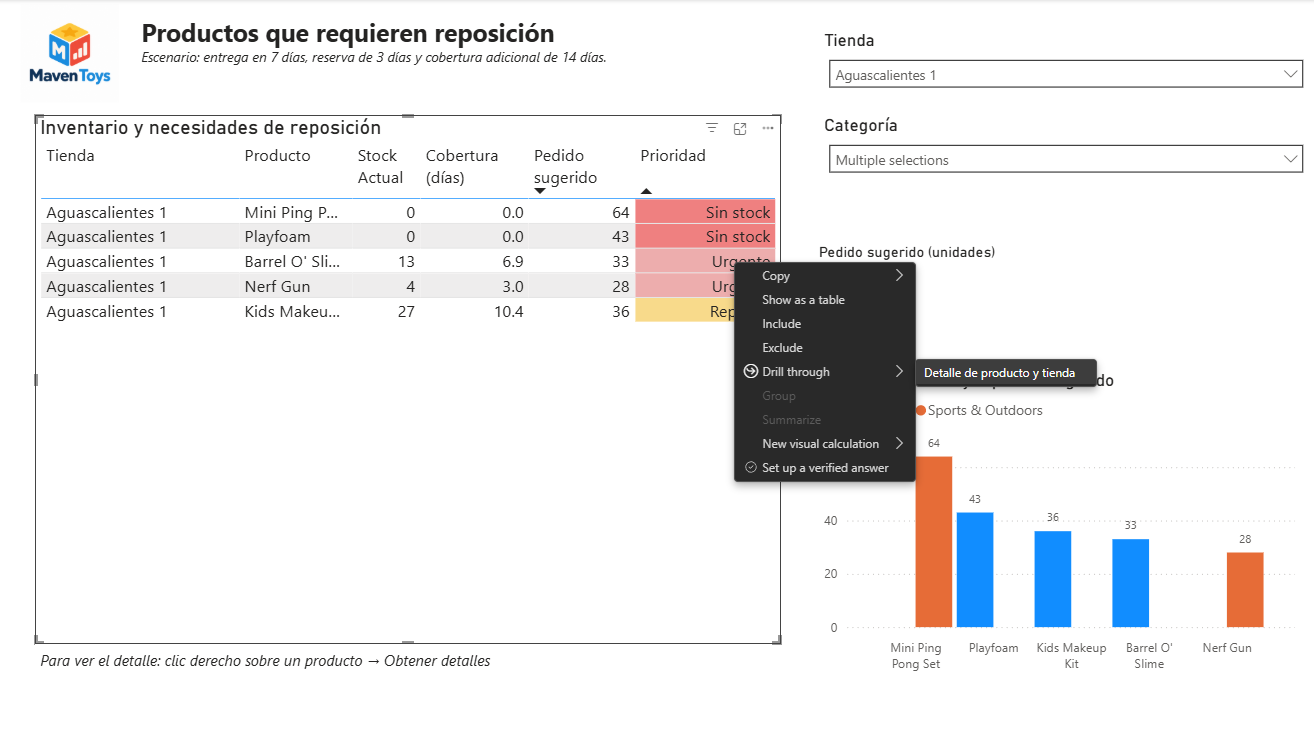

The dashboard page shown, as its layout file describes it:
{"tool":"powerbi","page":{"name":"Centro de reposición","canvas":[1280,720],"ordinal":1},"visuals":[{"type":"tableEx","title":"Inventario y necesidades de reposición","fields":{"Values":["Tiendas.Nombre Tienda Corto","Productos.Product_Name","Medidas_2.Stock Actual","Medidas_4.Cobertura 28D","Medidas_4.Reposición Total 28D","Calendario.Orden Prioridad"]},"box":[35.5,113,725.6,514.6],"z":0},{"type":"slicer","title":"Tienda","fields":{"Values":["Tiendas.Nombre Tienda Corto"]},"box":[798.5,30.3,481.5,82.9],"z":1000},{"type":"slicer","title":"Categoría","fields":{"Values":["Productos.Product_Category"]},"box":[798.5,113.1,481.5,86.8],"z":2000},{"type":"textbox","box":[134.2,10.7,481.5,85.6],"z":3000},{"type":"cardVisual","title":"Pedido sugerido (unidades)","fields":{"Data":["Medidas_4.Reposición Total 28D"]},"box":[798.5,238.1,185.5,76.3],"z":4000},{"type":"clusteredColumnChart","title":"Productos con mayor pedido sugerido","fields":{"Category":["Productos.Product_Name"],"Y":["Medidas_4.Reposición Total 28D"],"Series":["Productos.Product_Category"]},"box":[798.8,360.6,468.3,301.4],"z":5000},{"type":"textbox","box":[35.5,627.6,454.3,34.4],"z":6000},{"type":"image","box":[5.8,4.9,128.4,96.3],"z":7000}]}

Visuals, with their boxes in screenshot pixels (x1, y1, x2, y2), scaled from the page's 1280x720 canvas onto the 1314x737 screenshot:
"Inventario y necesidades de reposición" tableEx: (36, 116, 781, 642)
"Tienda" slicer: (820, 31, 1313, 116)
"Categoría" slicer: (820, 116, 1313, 205)
textbox: (138, 11, 632, 99)
"Pedido sugerido (unidades)" cardVisual: (820, 244, 1010, 322)
"Productos con mayor pedido sugerido" clusteredColumnChart: (820, 369, 1301, 678)
textbox: (36, 642, 503, 678)
image: (6, 5, 138, 104)
